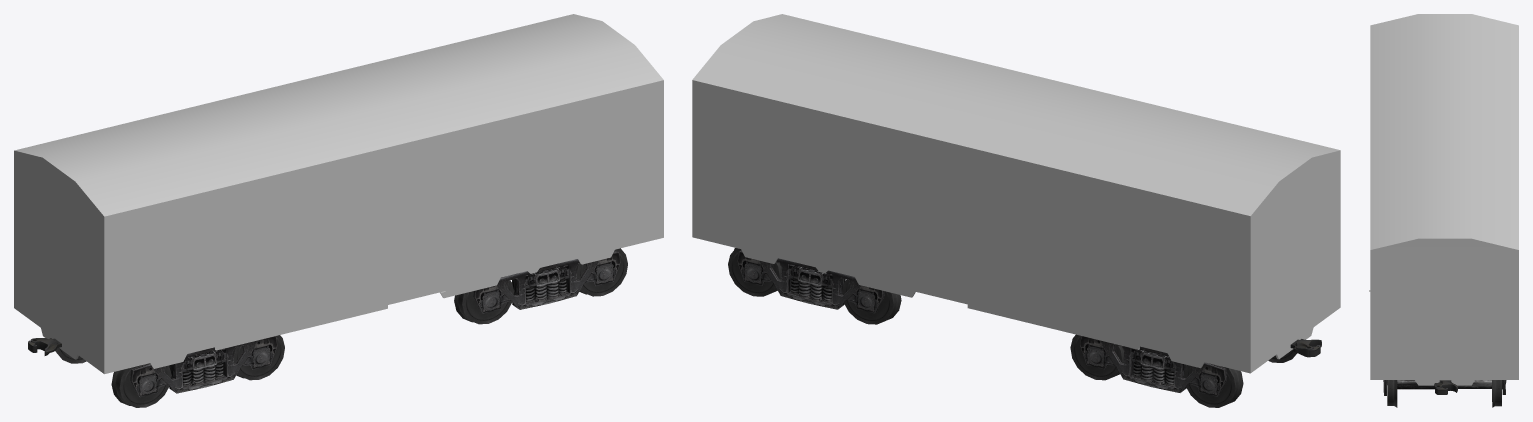
Rendered from TrainCarBox08.FBX.
3 renders of one model, left to right at view 1: azimuth 30°, elevation 25°; view 2: azimuth 150°, elevation 25°; view 3: azimuth 270°, elevation 25°, orthographic. The views are drawn at different scales.
Parts seen in each view (by area): view 1: TrainCarBox08, TrainCarBox01Wheels; view 2: TrainCarBox08, TrainCarBox01Wheels; view 3: TrainCarBox08, TrainCarBox01Wheels, TrainCarBox01Detail.
Part boxes in pixels (left/top/right/bottom): TrainCarBox08: left=14, top=14, right=663, bottom=374; TrainCarBox01Wheels: left=55, top=248, right=627, bottom=407; TrainCarBox08: left=692, top=14, right=1340, bottom=373; TrainCarBox01Wheels: left=728, top=248, right=1297, bottom=407; TrainCarBox08: left=1369, top=14, right=1518, bottom=385; TrainCarBox01Wheels: left=1383, top=380, right=1506, bottom=407; TrainCarBox01Detail: left=1434, top=380, right=1457, bottom=394.
Size of the model in its own units: 664 by 236 by 171.
